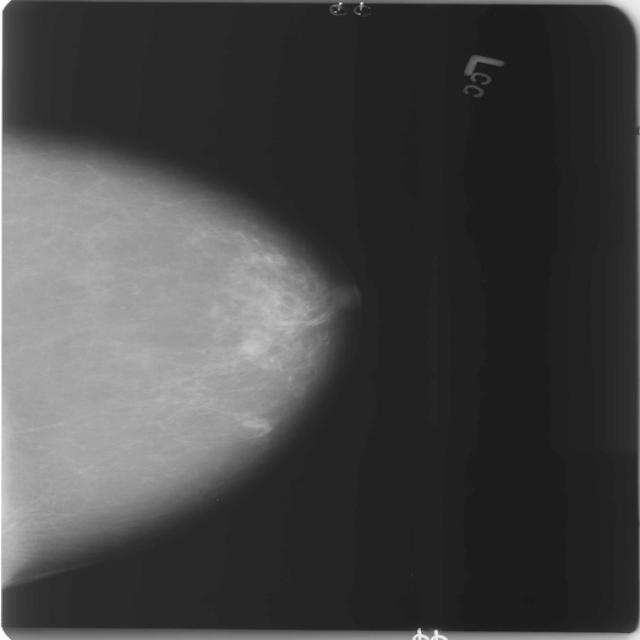tumour: (239, 332, 268, 358)
